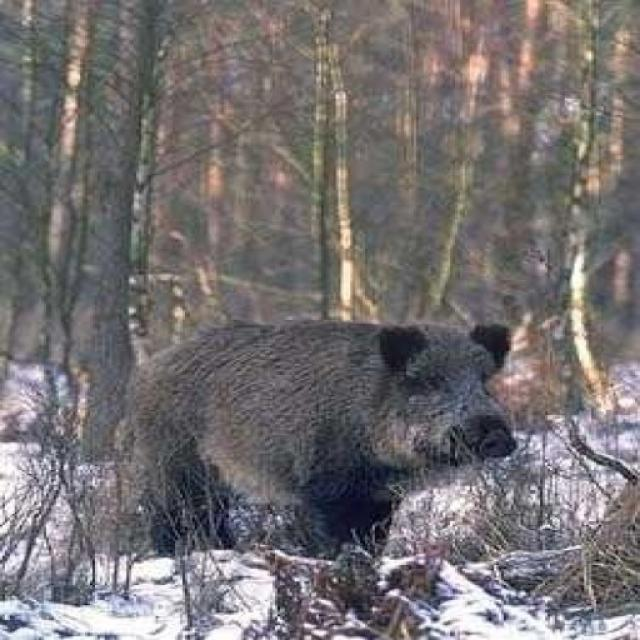pig: (104, 294, 548, 602)
